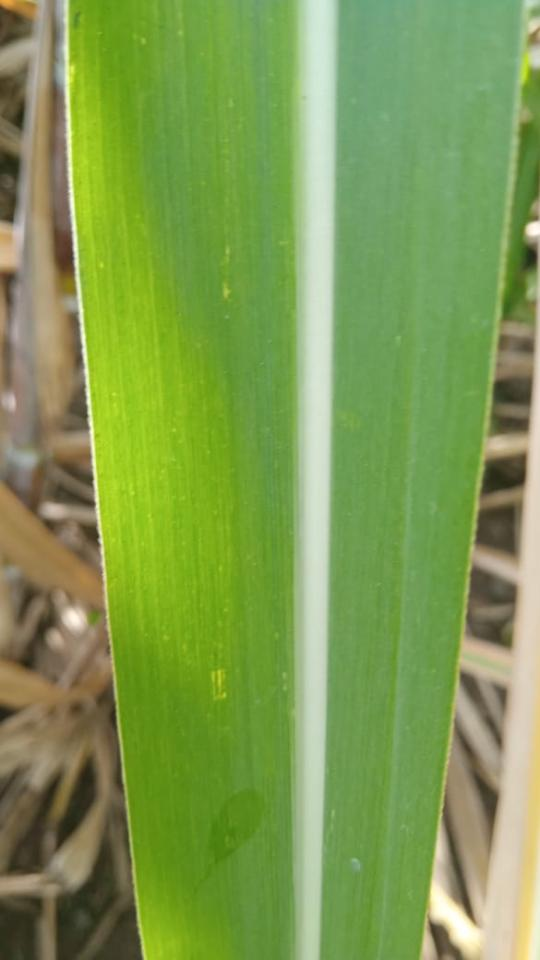Healthy: (67, 0, 524, 959)
